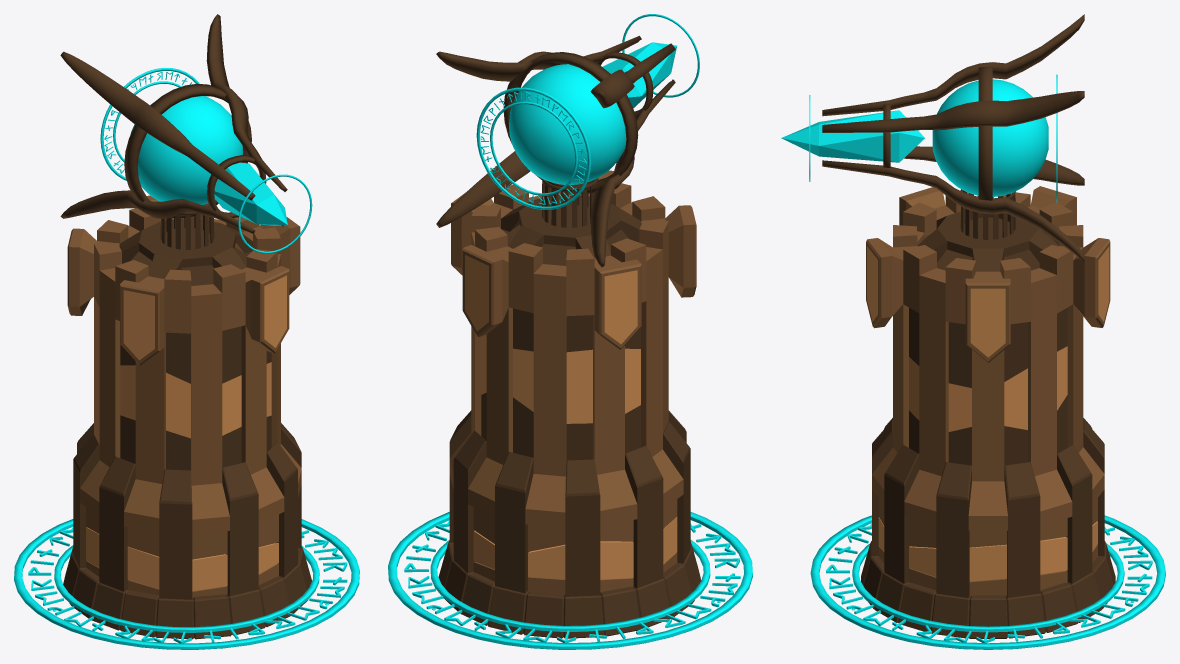
Rendered from MagicTower_1 (2).fbx.
3 views of the same model, side by side, from view 1: azimuth 30°, elevation 25°; view 2: azimuth 150°, elevation 25°; view 3: azimuth 270°, elevation 25° (orthographic). The views are drawn at different scales.
Visible parts, largest first — view 1: 1.Tower, polySurface58; view 2: 1.Tower, polySurface58; view 3: 1.Tower, polySurface58.
Part boxes in pixels (left/top/right/bottom): 1.Tower: left=14, top=195, right=359, bottom=649; polySurface58: left=60, top=14, right=312, bottom=253; 1.Tower: left=388, top=170, right=752, bottom=649; polySurface58: left=436, top=14, right=699, bottom=267; 1.Tower: left=810, top=186, right=1165, bottom=649; polySurface58: left=781, top=14, right=1084, bottom=262.
Bounding box in the file's own units: 183 × 303 × 198.
